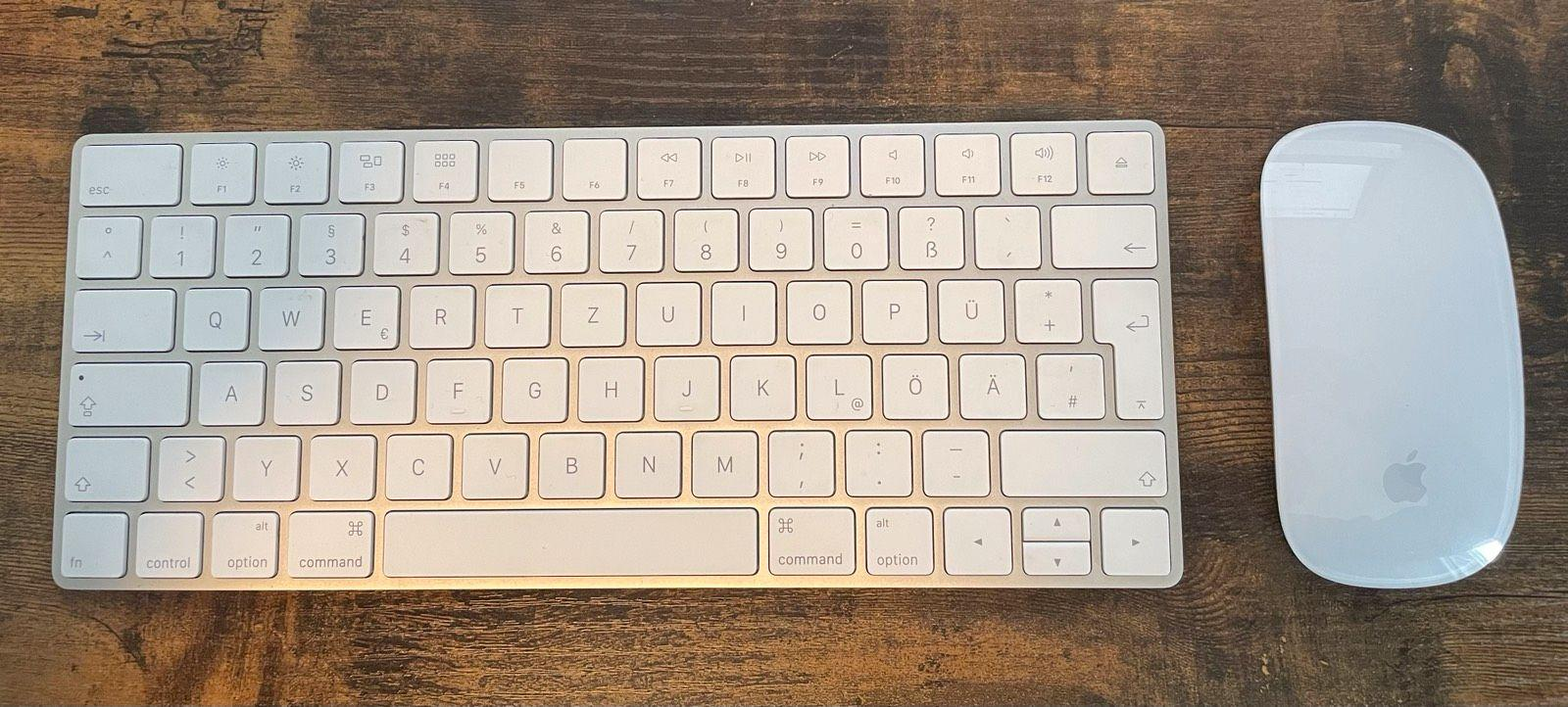0: (821, 203, 890, 269)
1: (148, 212, 216, 277)
2: (222, 211, 290, 276)
3: (297, 210, 365, 274)
4: (372, 208, 439, 273)
5: (447, 208, 515, 273)
6: (521, 206, 590, 273)
7: (597, 205, 664, 272)
8: (671, 205, 740, 271)
9: (745, 204, 814, 270)
a: (197, 356, 266, 425)
accent: (971, 202, 1042, 268)
ae: (956, 350, 1027, 420)
alt-left: (209, 507, 280, 581)
altgr-right: (861, 503, 934, 575)
b: (535, 428, 607, 497)
c: (382, 429, 454, 499)
caret: (74, 212, 140, 277)
comma: (764, 425, 835, 495)
d: (348, 355, 416, 425)
del: (1049, 200, 1156, 267)
e: (331, 280, 401, 350)
enter: (1089, 271, 1163, 418)
f: (424, 354, 491, 424)
g: (499, 353, 568, 422)
h: (575, 353, 645, 421)
hash: (1034, 350, 1104, 418)
i: (709, 276, 777, 344)
j: (652, 351, 719, 420)
k: (727, 350, 797, 420)
keyboard: (43, 114, 1197, 594)
l: (803, 350, 872, 420)
less: (156, 432, 225, 499)
m: (688, 425, 759, 496)
minus: (918, 427, 990, 495)
n: (612, 427, 683, 497)
o: (783, 275, 853, 345)
oe: (880, 350, 950, 419)
p: (859, 276, 928, 344)
plus: (1012, 274, 1082, 343)
point: (841, 426, 912, 495)
q: (180, 283, 251, 351)
r: (407, 280, 475, 349)
s: (271, 356, 340, 425)
shift-left: (61, 432, 148, 501)
shift-lock: (66, 357, 189, 425)
shift-right: (997, 424, 1167, 495)
space: (381, 503, 757, 578)
ss: (896, 203, 964, 268)
strg-left: (133, 507, 204, 581)
t: (483, 279, 550, 348)
tab: (71, 283, 174, 351)
u: (633, 277, 703, 346)
ue: (935, 275, 1005, 344)
v: (459, 428, 529, 498)
w: (256, 281, 325, 350)
x: (307, 431, 377, 500)
y: (231, 432, 301, 499)
z: (558, 278, 626, 347)
